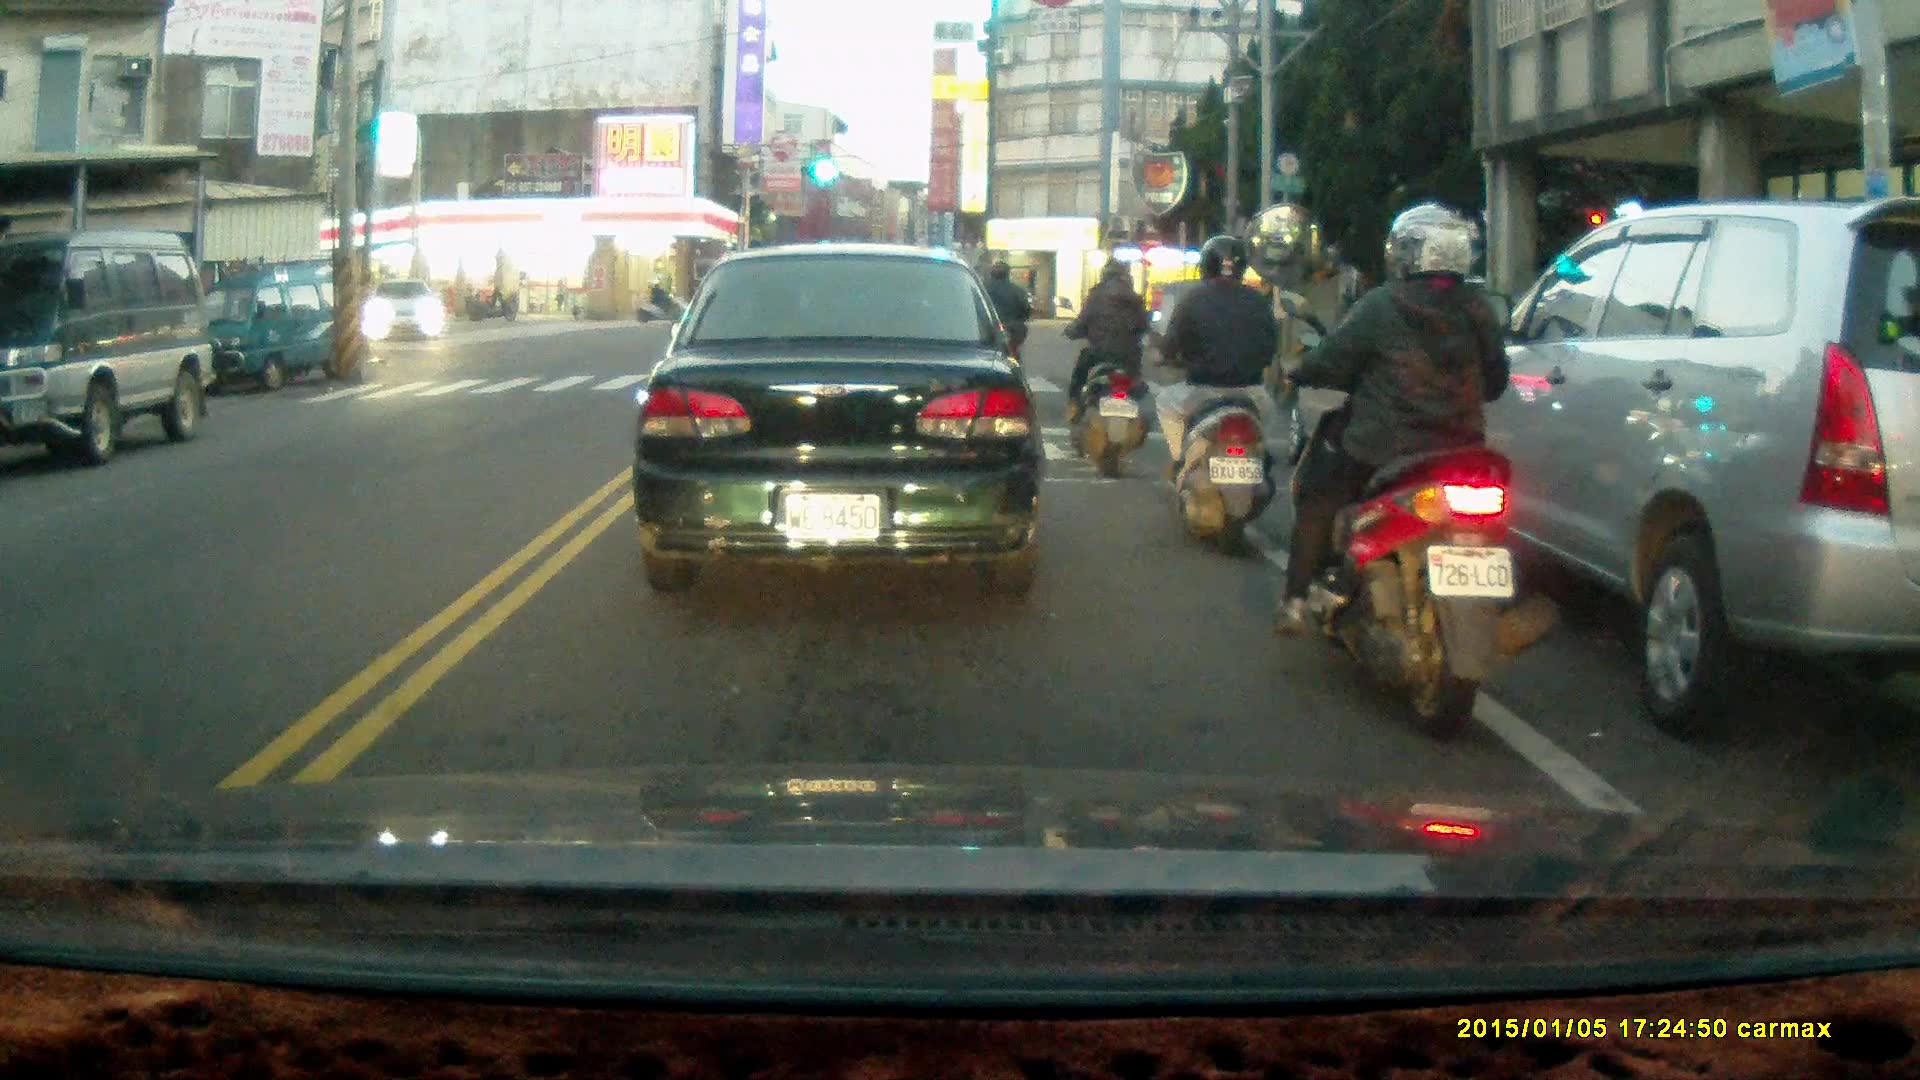rider: (1273, 203, 1542, 736), (1122, 230, 1279, 546), (1063, 258, 1154, 479), (971, 260, 1032, 398), (632, 279, 682, 324)
vehicle: (1403, 195, 1920, 742), (633, 240, 1046, 598), (1, 234, 212, 458), (180, 262, 361, 399), (369, 278, 449, 344)
